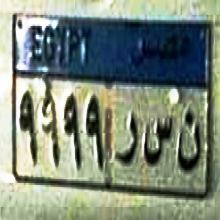9: (38, 89, 61, 168), (84, 97, 106, 168), (18, 93, 39, 165), (63, 90, 81, 171)
noon: (175, 110, 205, 172)
raa: (116, 109, 140, 172)
seen: (142, 112, 173, 166)
